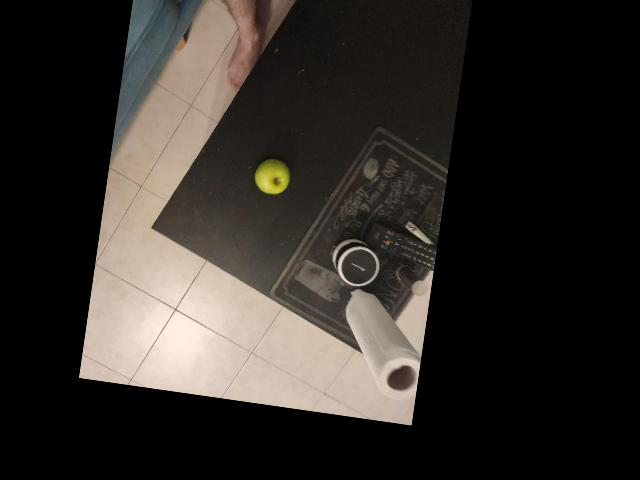apple: (186, 208, 234, 251)
